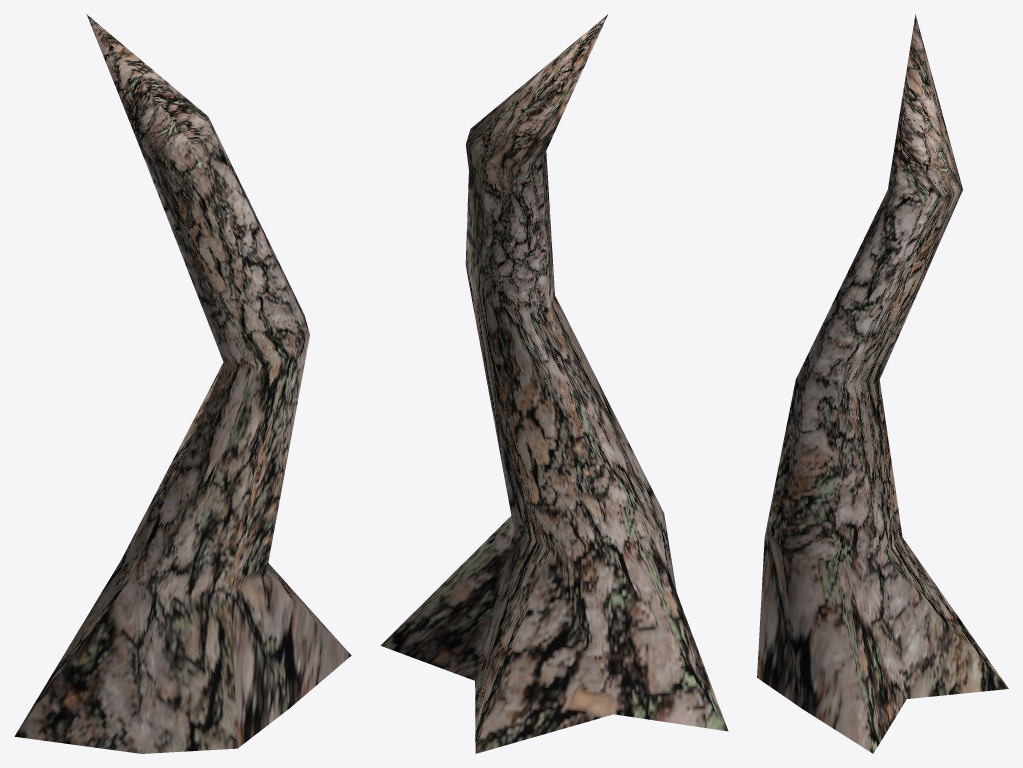
The model's file is tree1_trunk_lod1.fbx.
3 views of the same model, side by side, from view 1: azimuth 30°, elevation 25°; view 2: azimuth 150°, elevation 25°; view 3: azimuth 270°, elevation 25° (orthographic). The views are drawn at different scales.
Visible parts, largest first — view 1: Circle_0.001; view 2: Circle_0.001; view 3: Circle_0.001.
Part boxes in pixels (x1=…): Circle_0.001: x1=14, y1=14, x2=351, y2=753; Circle_0.001: x1=380, y1=14, x2=728, y2=753; Circle_0.001: x1=757, y1=14, x2=1008, y2=753.
Size of the model in its own units: 43.15 by 85.12 by 30.36.
Materials: 1 (1 with a texture image).
